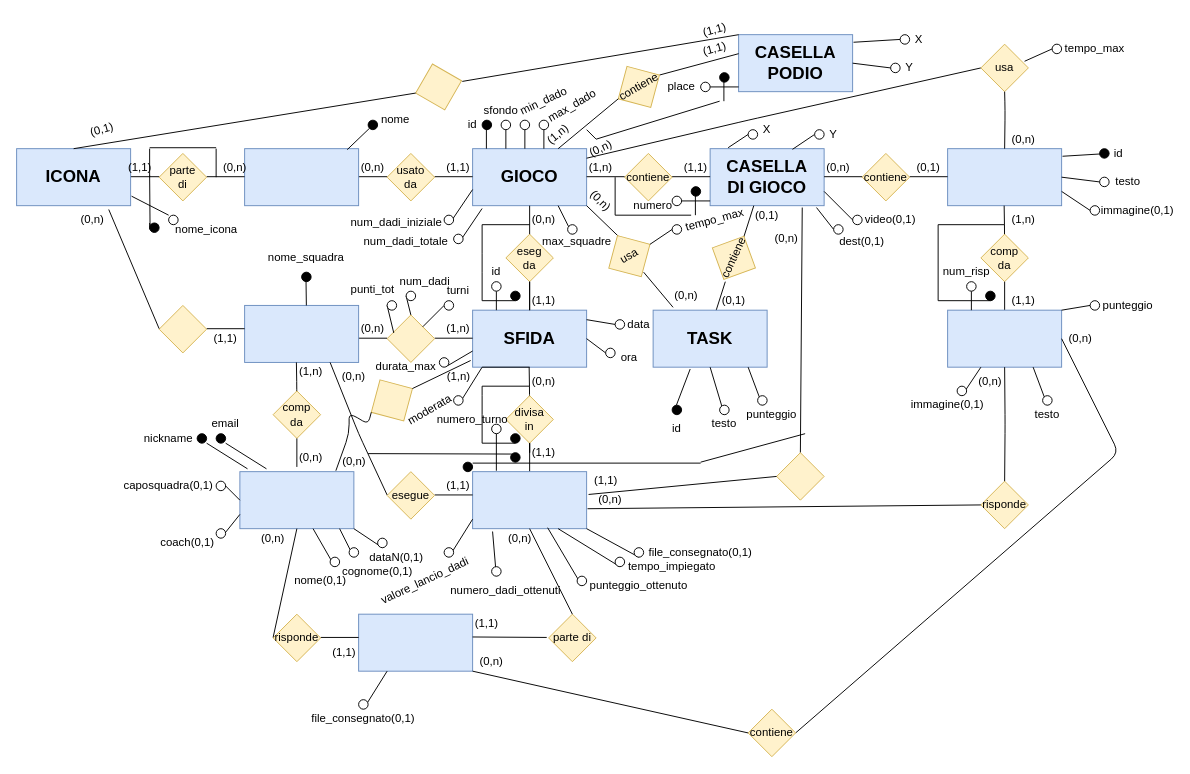
This 1190x774 diagram has some shape labels left out. Each missing label, with the centre of its shape:
"parte-cipa" goes at point 391,400.
"posiz in" goes at point 438,86.
"punteg" goes at point 410,338.
"QUIZ" goes at point 1004,177.
"RISPOSTA QUIZ" goes at point 1004,338.
"RISPOSTA UTENTE" goes at point 415,642.
"scelta da" goes at point 182,328.
"SET" goes at point 301,177.
"SQUADRA" goes at point 301,333.
"TURNO" goes at point 529,500.
"UTENTE" goes at point 296,500.
"visita" goes at point 800,476.
